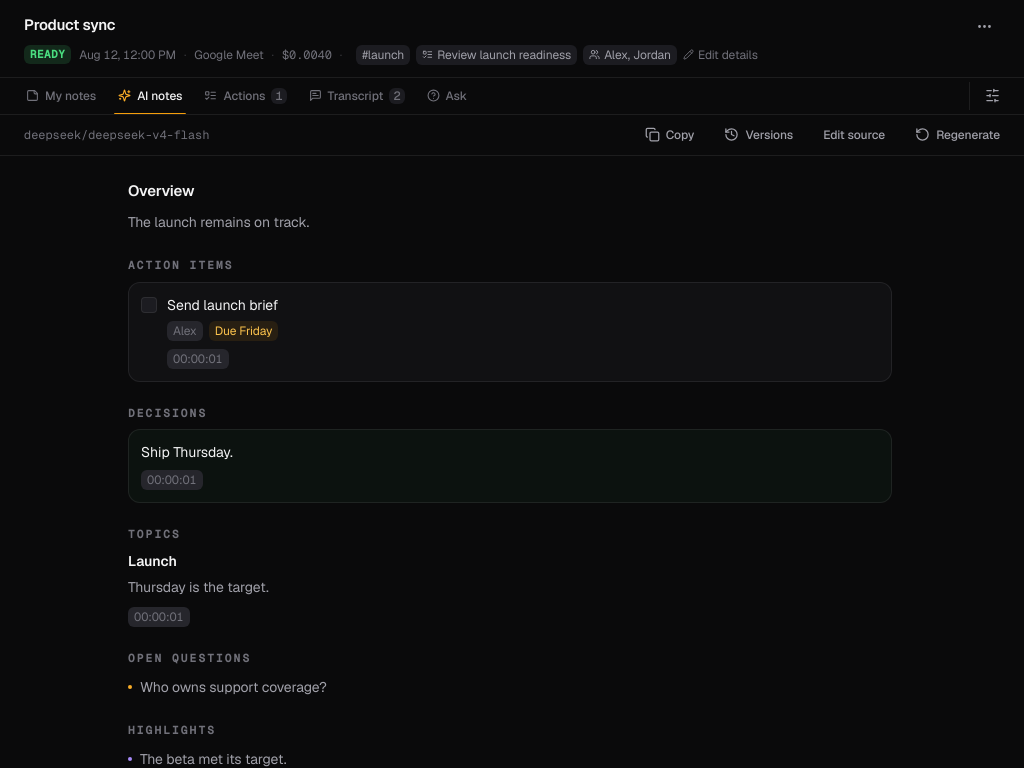
Test: MeetingWorkspace › filters and highlights a long transcript locally
Expected: the text "The launch remains on track." is shown, [128,213,309,231]
Step 1. Click the button "Transcript 2" → {"x": 357, "y": 96}, box [299,78,415,114]
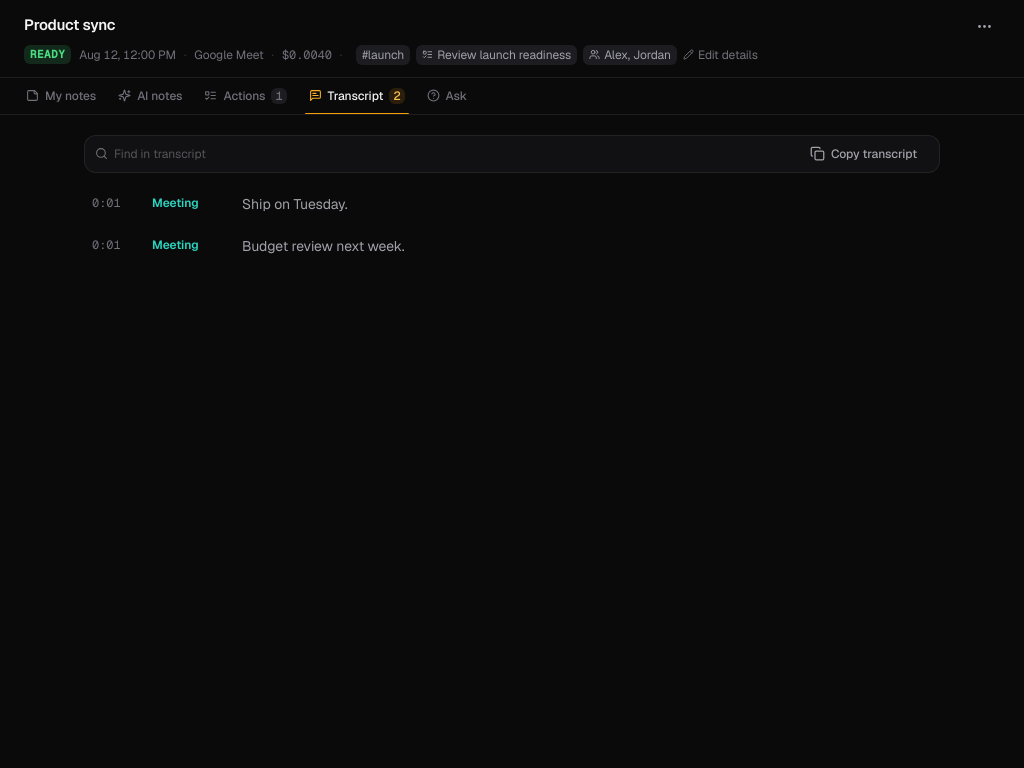
Step 2. Type "Tuesday" into the field labelled "Find in transcript" → {"x": 453, "y": 154}, box [114,136,792,172]
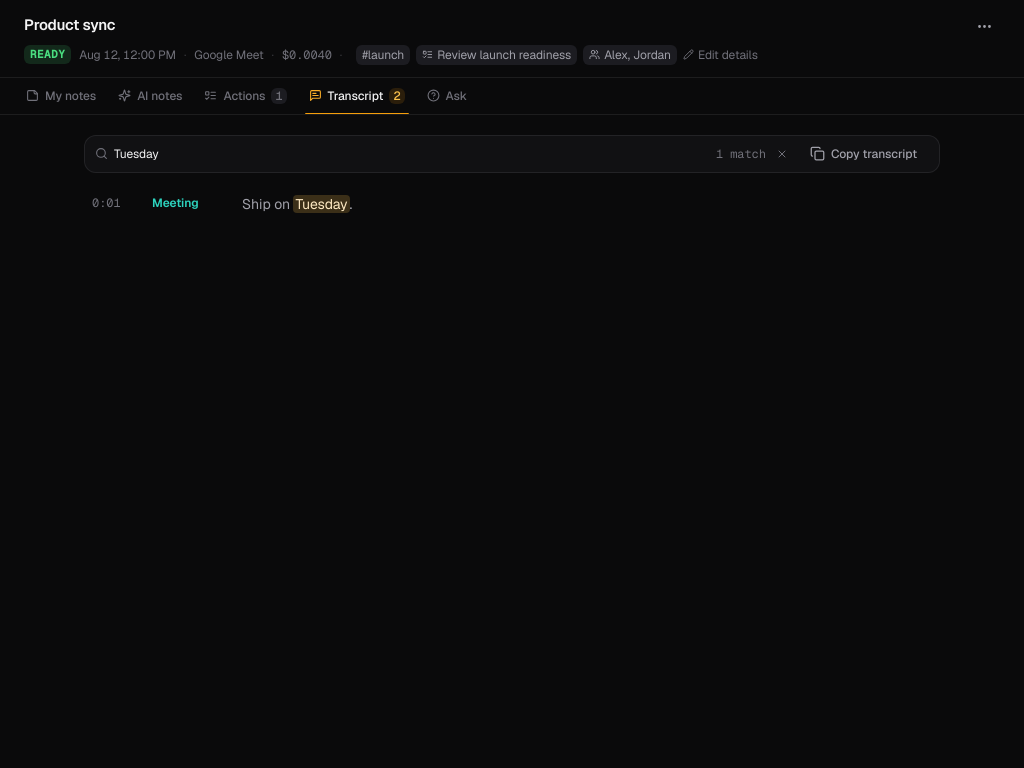
Result: the text "Tuesday" is shown at [293,194,350,212]
Result: the text "Budget review next week." is gone
Result: the text "1 match" is shown at [716,146,766,162]
